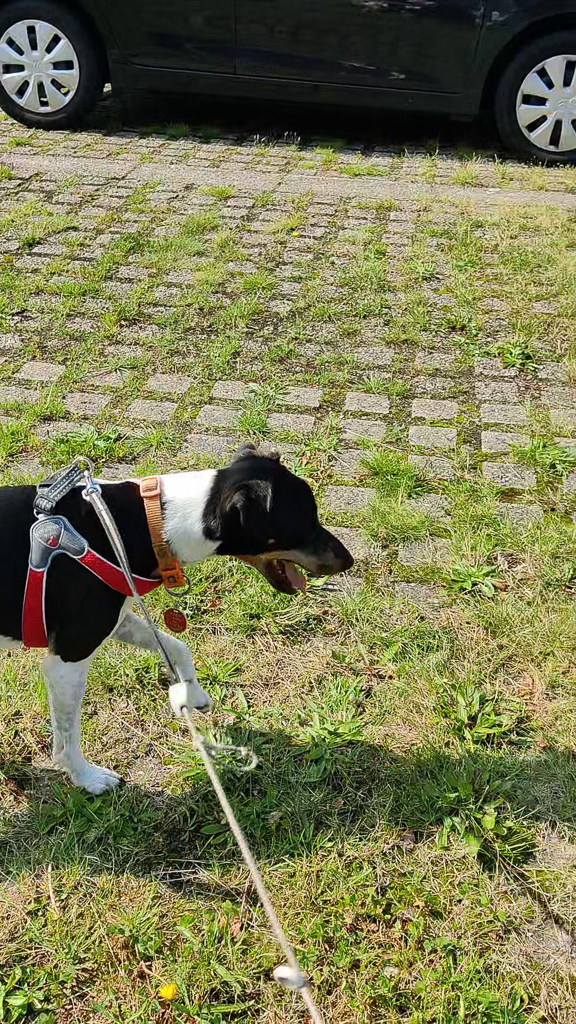Dog: (0, 424, 382, 810)
